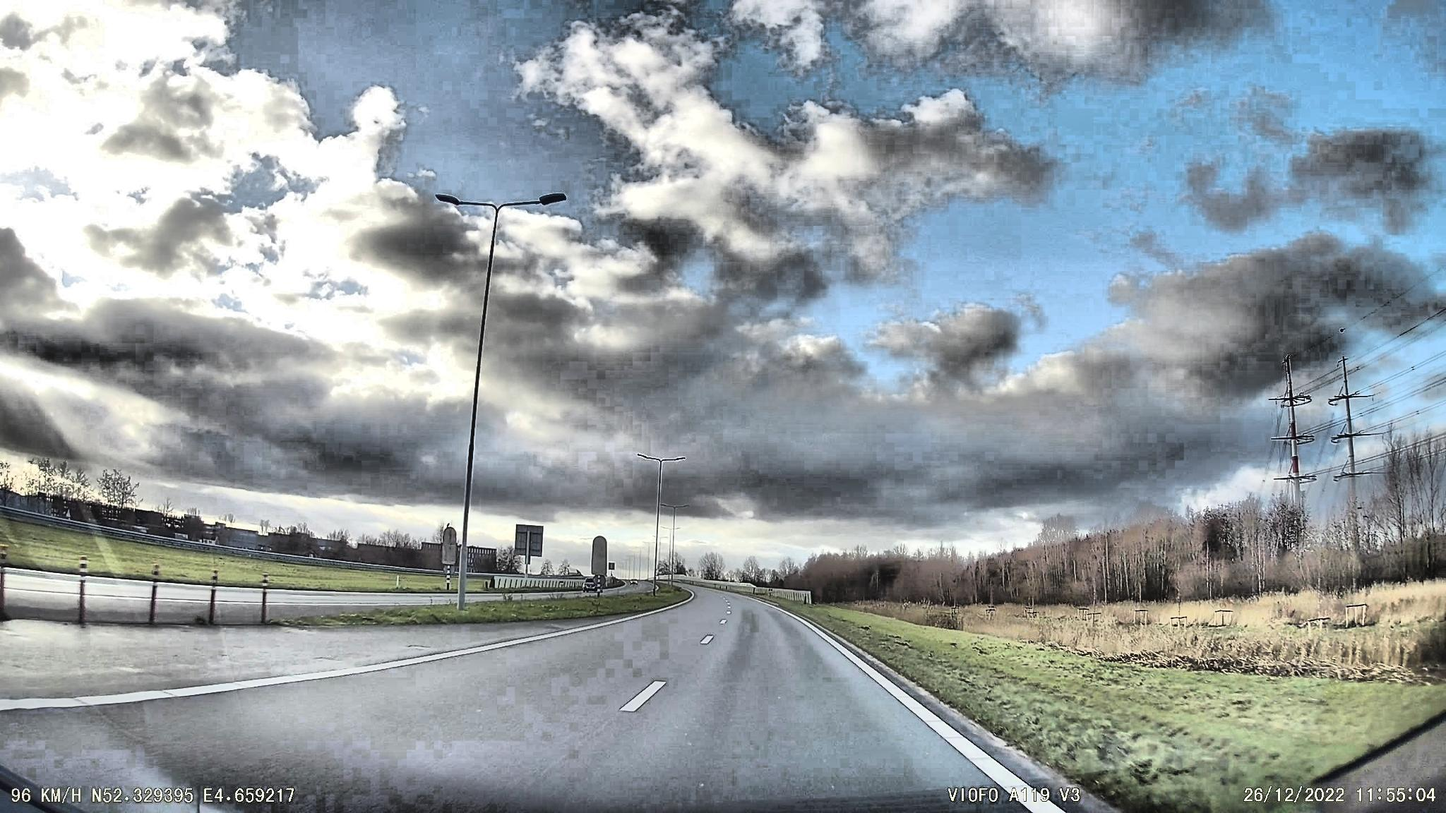Roads: (0, 589, 1129, 813)
